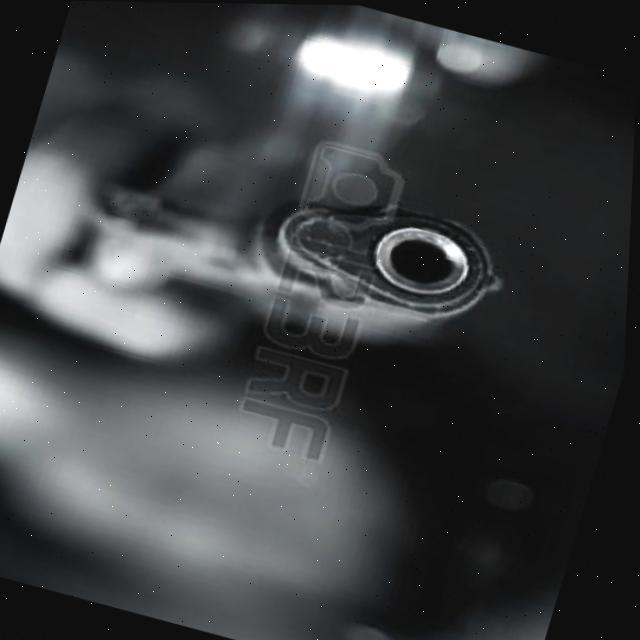gun: (73, 120, 530, 358)
